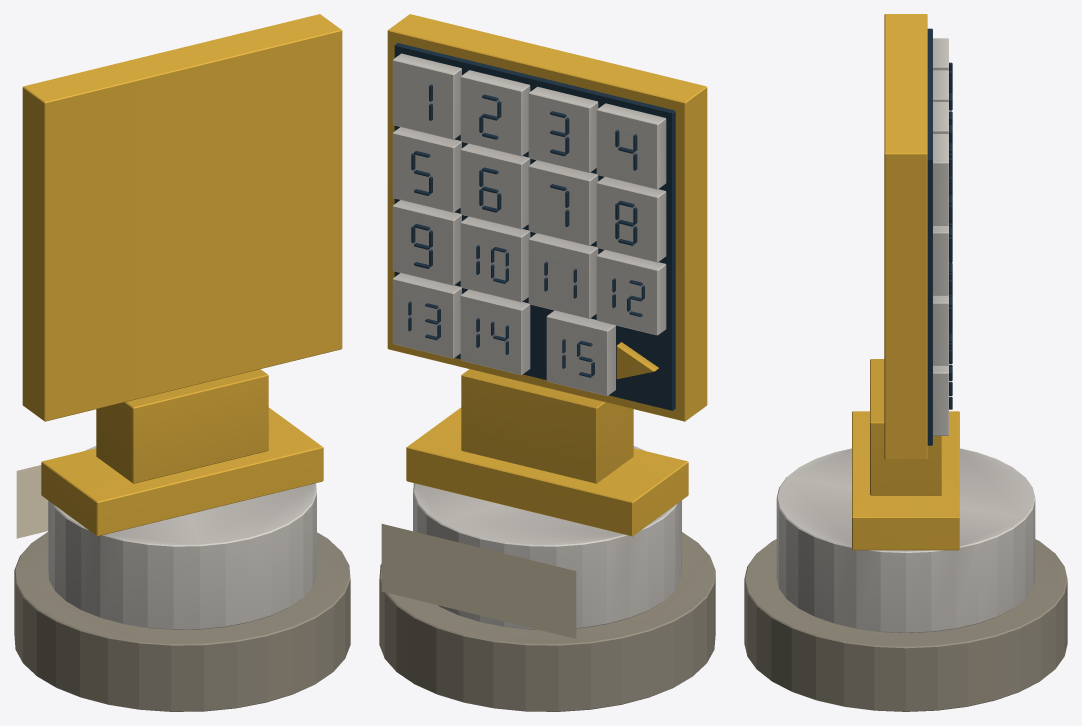
Rendered from trophy_slide.glb.
3 views of the same model, side by side, from view 1: azimuth 30°, elevation 25°; view 2: azimuth 150°, elevation 25°; view 3: azimuth 270°, elevation 25° (orthographic). The views are drawn at different scales.
Parts seen in each view (by area): view 1: symbol, common_pedestal, trophy_plate; view 2: symbol, common_pedestal, trophy_plate; view 3: common_pedestal, symbol.
Boxes of the visible parts, x1,y1,x2,y2 form: symbol: (22, 14, 342, 536); common_pedestal: (14, 446, 350, 711); trophy_plate: (16, 465, 47, 538); symbol: (387, 14, 707, 536); common_pedestal: (379, 446, 715, 711); trophy_plate: (381, 524, 576, 638); common_pedestal: (744, 448, 1067, 711); symbol: (852, 14, 959, 550).
Bounding box in the file's own units: 0.92 × 1.72 × 0.9.
